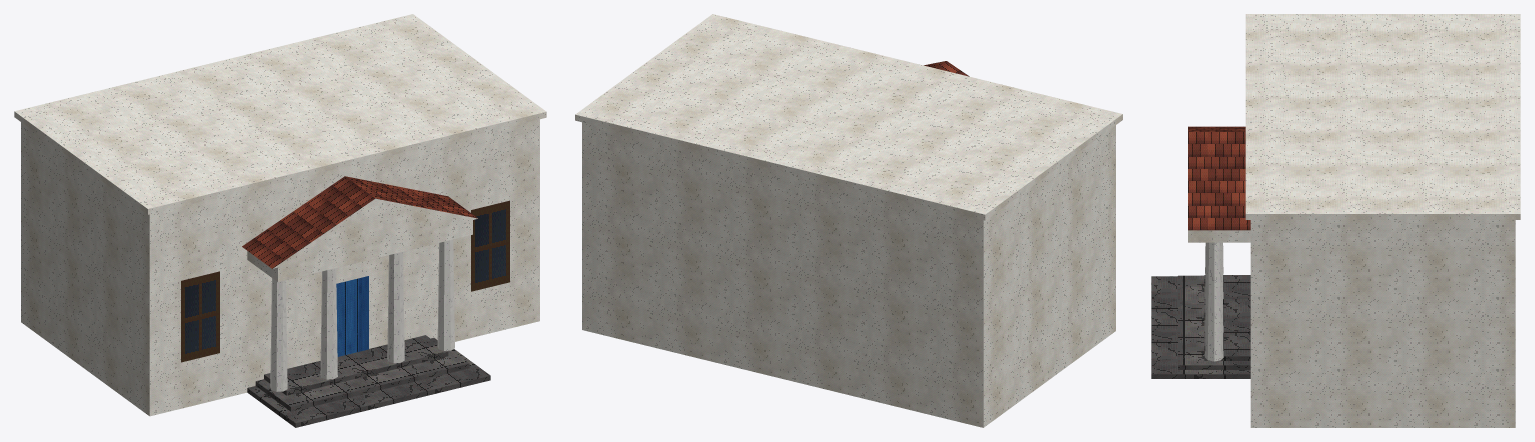
The model's file is edificio_grande.obj.
3 renders of one model, left to right at view 1: azimuth 30°, elevation 25°; view 2: azimuth 150°, elevation 25°; view 3: azimuth 270°, elevation 25°, orthographic. The views are drawn at different scales.
Visible parts, largest first — view 1: edificio_grande; view 2: edificio_grande; view 3: edificio_grande.
Part boxes in pixels (x1,y1,x2,y2): edificio_grande: (14,14,546,427); edificio_grande: (575,14,1122,427); edificio_grande: (1151,14,1520,427).
Size of the model in its own units: 14.3 by 7.2 by 11.15.
6 materials, 6 textured.
